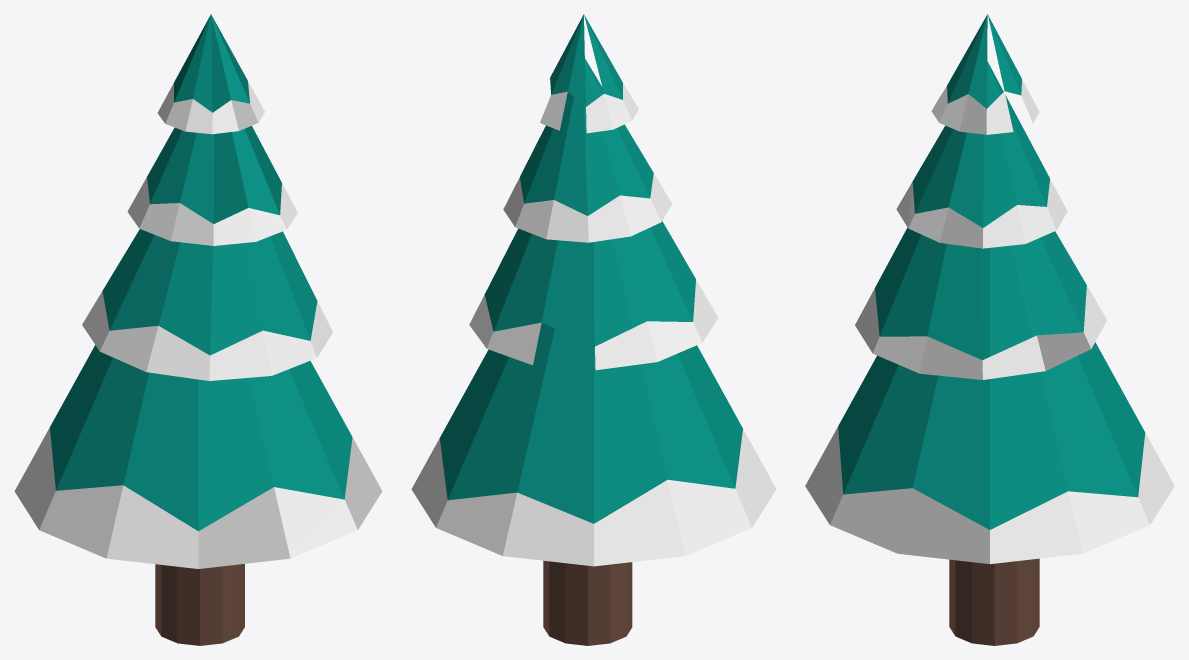
The model's file is snow_pine.glb.
The picture shows the model from 3 angles, left to right: view 1: azimuth 30°, elevation 25°; view 2: azimuth 150°, elevation 25°; view 3: azimuth 270°, elevation 25°; orthographic projection.
Visible parts, largest first — view 1: group302406045, group558928348, group1852343849, group116569604, group1839540034; view 2: group302406045, group558928348, group1852343849, group1839540034, group116569604; view 3: group302406045, group558928348, group1852343849, group1839540034, group116569604.
Part boxes in pixels (bbox=[...]): group302406045: bbox=[14, 345, 382, 568]; group558928348: bbox=[82, 229, 332, 380]; group1852343849: bbox=[127, 126, 297, 245]; group116569604: bbox=[157, 14, 264, 134]; group1839540034: bbox=[155, 564, 244, 645]; group302406045: bbox=[411, 237, 776, 566]; group558928348: bbox=[469, 221, 718, 370]; group1852343849: bbox=[503, 59, 671, 242]; group1839540034: bbox=[543, 560, 632, 645]; group116569604: bbox=[540, 14, 638, 133]; group302406045: bbox=[805, 245, 1174, 563]; group558928348: bbox=[855, 227, 1106, 379]; group1852343849: bbox=[896, 61, 1067, 248]; group1839540034: bbox=[949, 558, 1039, 645]; group116569604: bbox=[931, 14, 1039, 134].
Size of the model in its own units: 0.41 by 0.7544 by 0.41.
